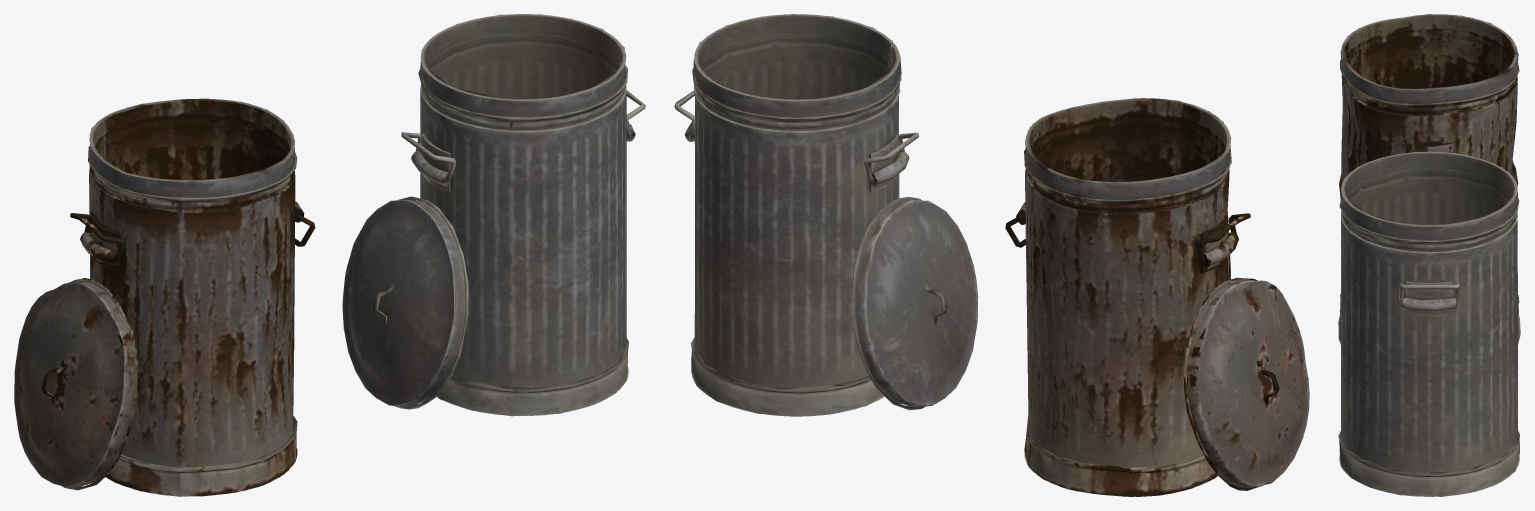
File: trash_can.glb
3 views of the same model, side by side, from view 1: azimuth 30°, elevation 25°; view 2: azimuth 150°, elevation 25°; view 3: azimuth 270°, elevation 25° (orthographic). The views are drawn at different scales.
Visible parts, largest first — view 1: metal_trash_can, metal_trash_can_rust, metal_trash_can_lid, metal_trash_can_rust_lid; view 2: metal_trash_can, metal_trash_can_rust, metal_trash_can_lid, metal_trash_can_rust_lid; view 3: metal_trash_can, metal_trash_can_rust, metal_trash_can_handle_right.
Part boxes in pixels (<box>): metal_trash_can: <box>411,14,635,416</box>; metal_trash_can_rust: <box>80,98,304,496</box>; metal_trash_can_lid: <box>342,196,468,409</box>; metal_trash_can_rust_lid: <box>14,278,137,490</box>; metal_trash_can: <box>685,14,909,416</box>; metal_trash_can_rust: <box>1016,98,1238,496</box>; metal_trash_can_lid: <box>851,197,978,410</box>; metal_trash_can_rust_lid: <box>1183,277,1309,490</box>; metal_trash_can: <box>1338,151,1519,496</box>; metal_trash_can_rust: <box>1340,14,1519,315</box>; metal_trash_can_handle_right: <box>1399,283,1459,303</box>.
Size of the model in its own units: 1.78 by 0.9063 by 0.5559.
Materials: 2 (2 with a texture image).
